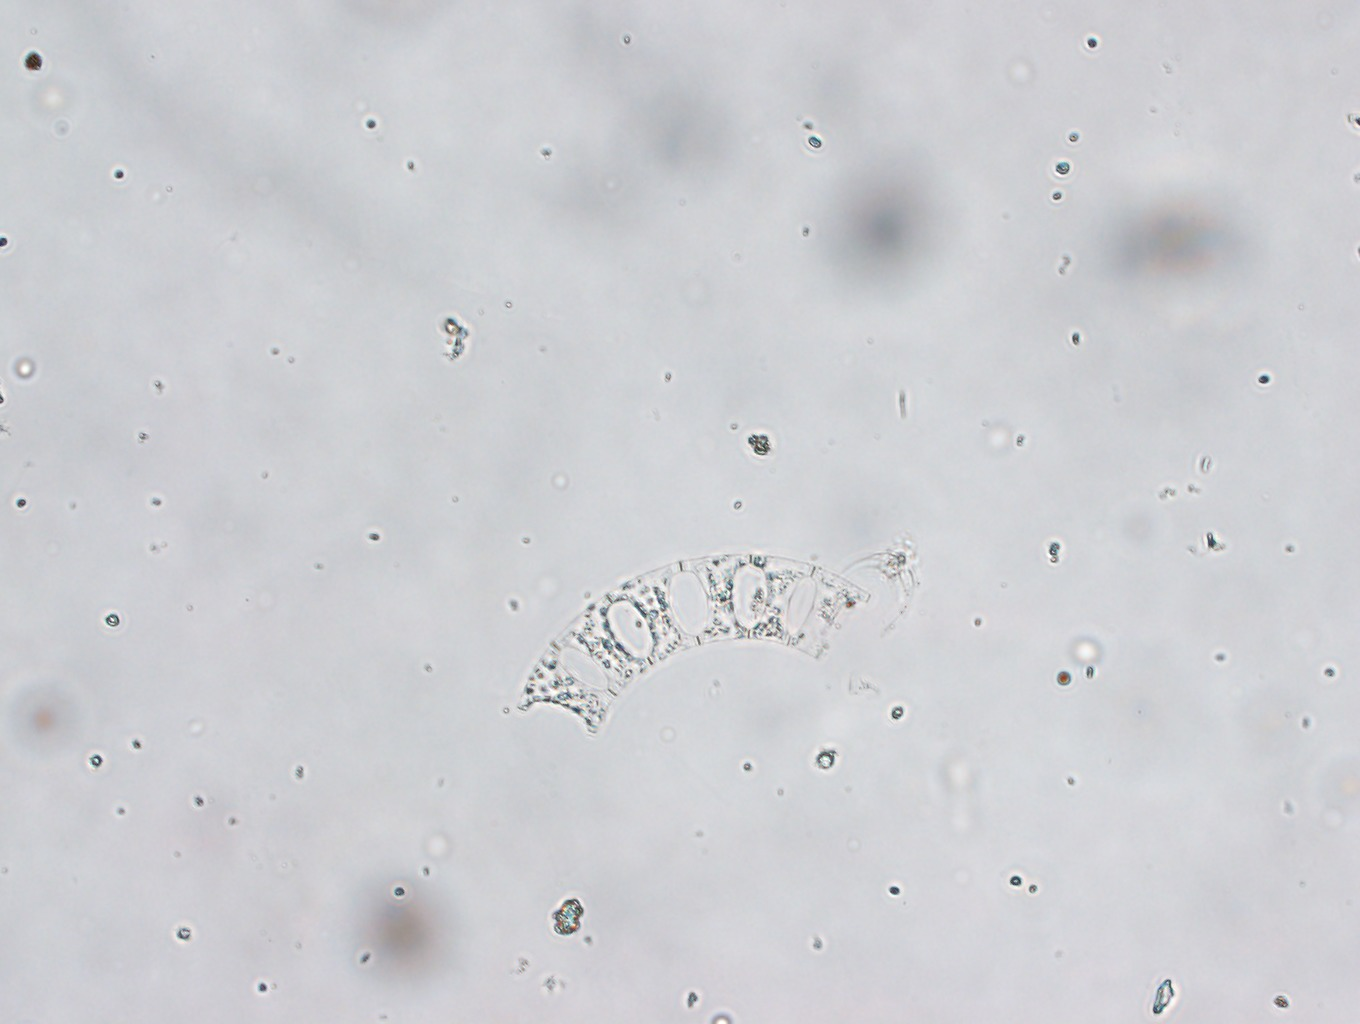eucampia: (514, 550, 872, 736)
